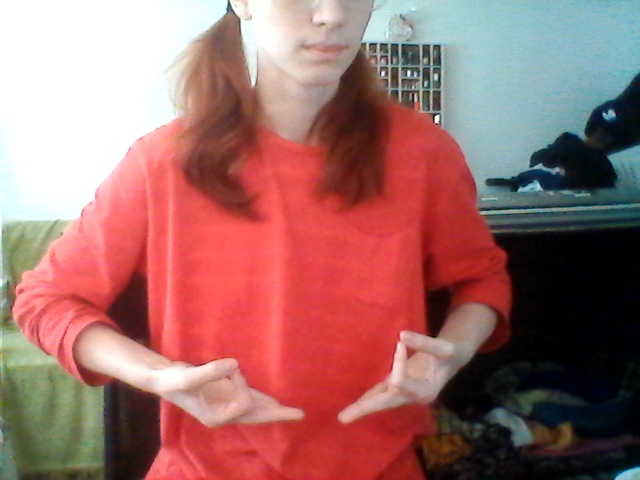preco: (158, 318, 467, 440)
